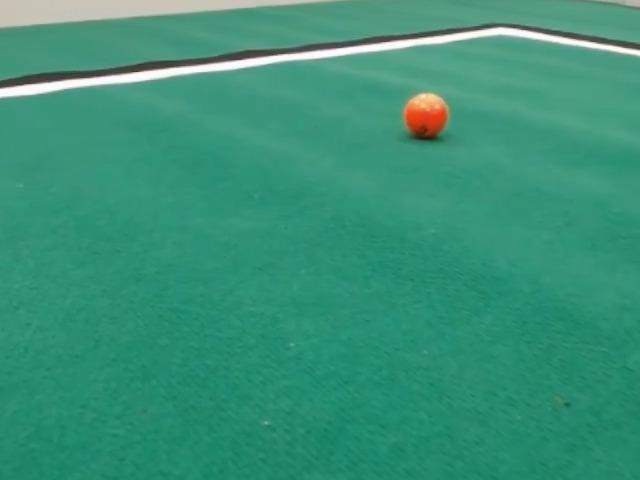Ball: (403, 93, 448, 138)
